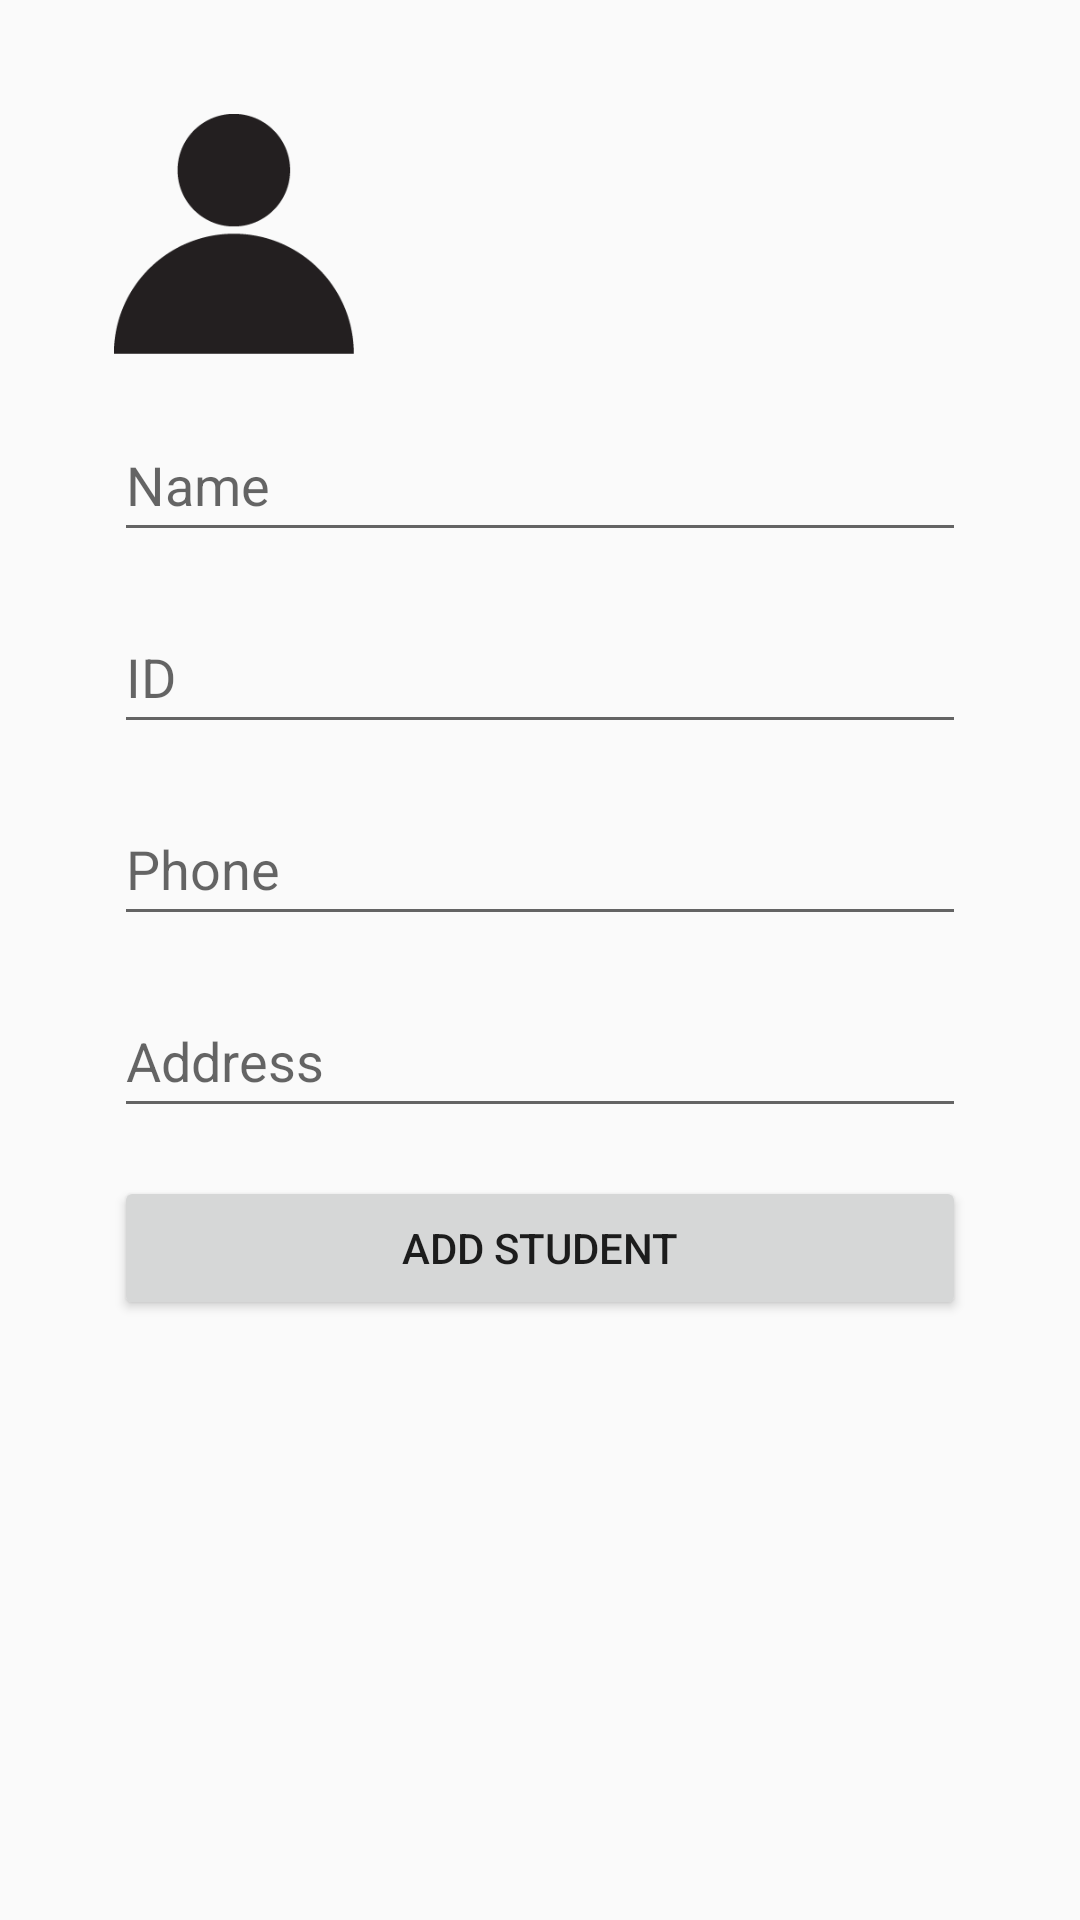

Where to tap for icons on this 1080 x 1920 app screen, as point (x, y):
student pic: point (234, 234)
